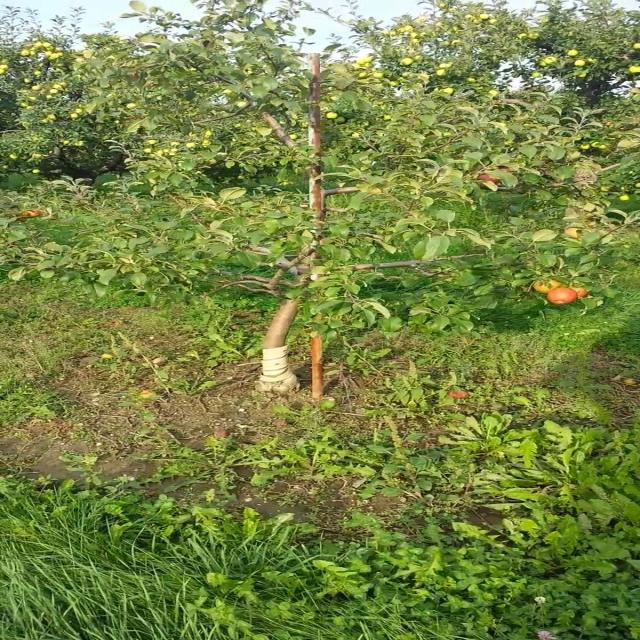apple: (547, 288, 576, 304), (532, 284, 560, 292), (20, 212, 43, 220), (568, 228, 581, 239), (483, 176, 500, 184), (575, 288, 590, 297)
